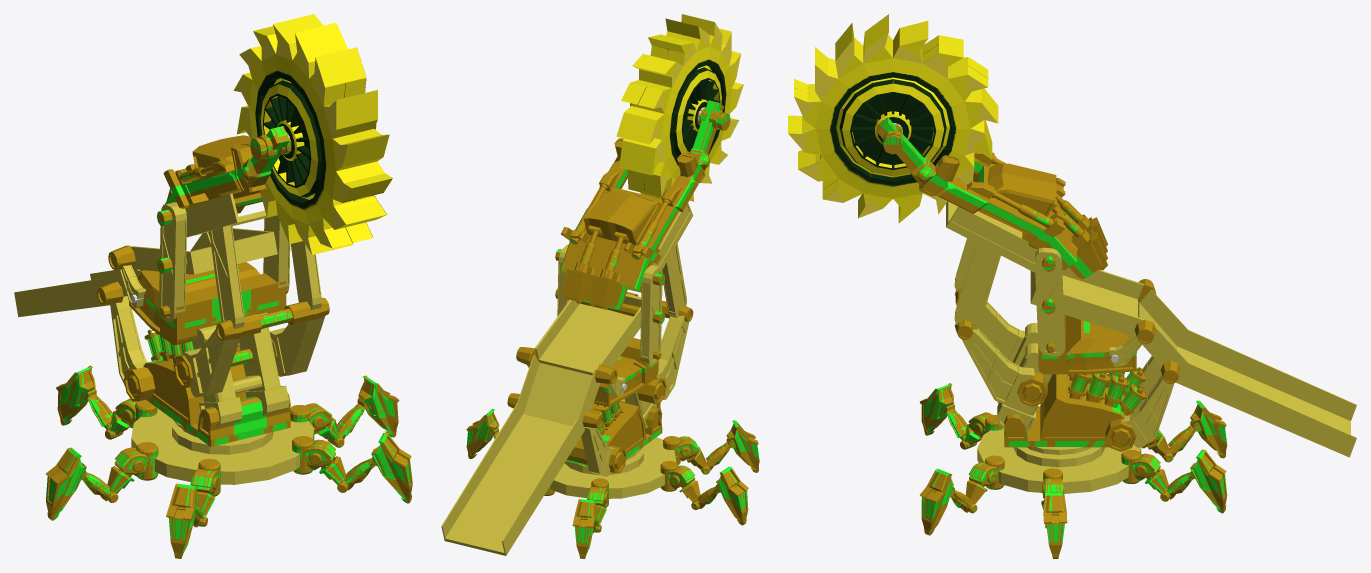
Rendered from BucketWheelExcavator.fbx.
The picture shows the model from 3 angles, left to right: view 1: azimuth 30°, elevation 25°; view 2: azimuth 150°, elevation 25°; view 3: azimuth 270°, elevation 25°; orthographic projection. The views are drawn at different scales.
Parts seen in each view (by area): view 1: CraneWheel, LegMid, BottomBase, Leg, TangTren, CranePike, UnderBase, ThanhDoTrucDuoi, ThanhDoDuoi, ThanhDo, ThanhDo.001, LegBack (+11 smaller); view 2: RockCatcherUnder, CraneWheel, CranePike, RockCatcherMiddle, BottomBase, LegMid, UnderBase, Leg, ThanhDo, TangTren, LegBack, ThanhDoTrucDuoi (+10 smaller); view 3: CraneWheel, RockCatcherUnder, CranePike, BottomBase, UnderBase, Leg, LegBack, RockCatcherMiddle, ThanhDoTrucDuoi, TangTren, RockCatcher, ThanhDo.001 (+7 smaller).
Part boxes in pixels (<box>): CraneWheel: <box>233,14,392,254</box>; LegMid: <box>45,375,399,520</box>; BottomBase: <box>131,408,314,484</box>; Leg: <box>166,432,412,558</box>; TangTren: <box>129,262,286,345</box>; CranePike: <box>163,126,289,213</box>; UnderBase: <box>143,349,290,446</box>; ThanhDoTrucDuoi: <box>183,316,325,397</box>; ThanhDoDuoi: <box>192,312,288,427</box>; ThanhDo: <box>159,202,290,322</box>; ThanhDo.001: <box>209,225,321,328</box>; LegBack: <box>56,365,157,439</box>; RockCatcherUnder: <box>441,355,600,555</box>; CraneWheel: <box>616,14,743,201</box>; CranePike: <box>560,100,724,309</box>; RockCatcherMiddle: <box>534,293,641,374</box>; BottomBase: <box>550,437,676,498</box>; LegMid: <box>466,409,748,525</box>; UnderBase: <box>566,401,662,466</box>; Leg: <box>663,420,759,474</box>; ThanhDo: <box>557,244,662,365</box>; TangTren: <box>540,338,661,406</box>; LegBack: <box>544,478,608,558</box>; ThanhDoTrucDuoi: <box>655,316,689,399</box>; CraneWheel: <box>788,14,998,223</box>; RockCatcherUnder: <box>1138,289,1356,457</box>; CranePike: <box>876,117,1107,278</box>; BottomBase: <box>977,428,1141,493</box>; UnderBase: <box>1004,374,1131,447</box>; Leg: <box>920,383,1004,535</box>; LegBack: <box>1121,400,1227,513</box>; RockCatcherMiddle: <box>1030,267,1143,336</box>; ThanhDoTrucDuoi: <box>962,301,1034,408</box>; TangTren: <box>1038,314,1136,374</box>; RockCatcher: <box>946,178,1037,272</box>; ThanhDo.001: <box>954,238,1000,329</box>.
Bounding box in the file's own units: 3158 × 4526 × 5052.
